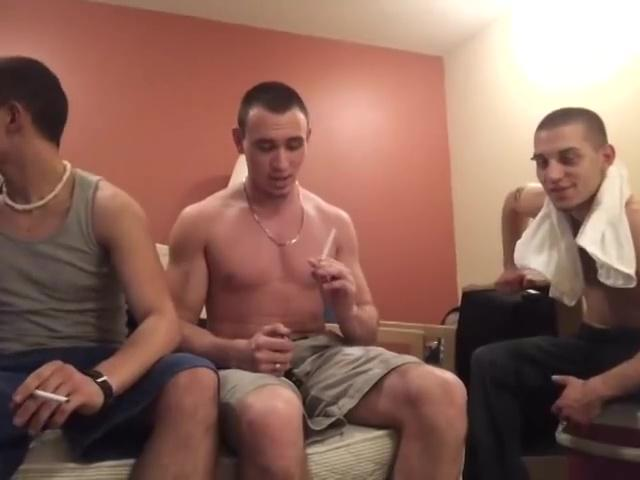cigarette: (32, 387, 75, 408), (319, 227, 341, 264)
